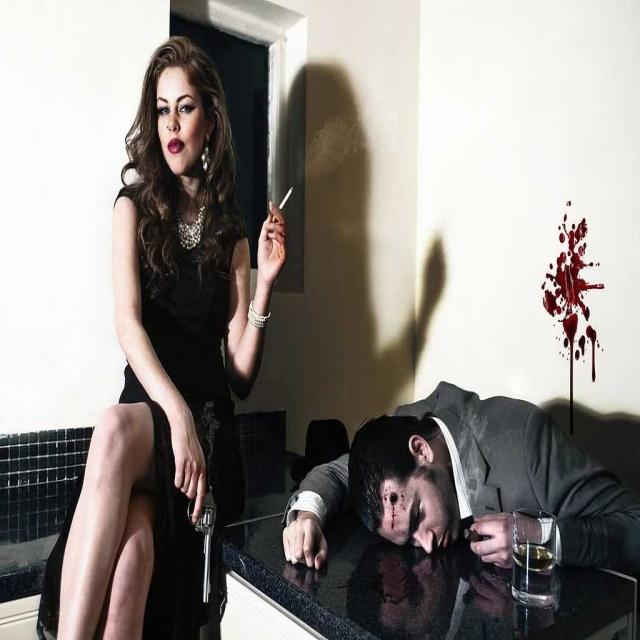Smooking: (276, 178, 297, 216)
